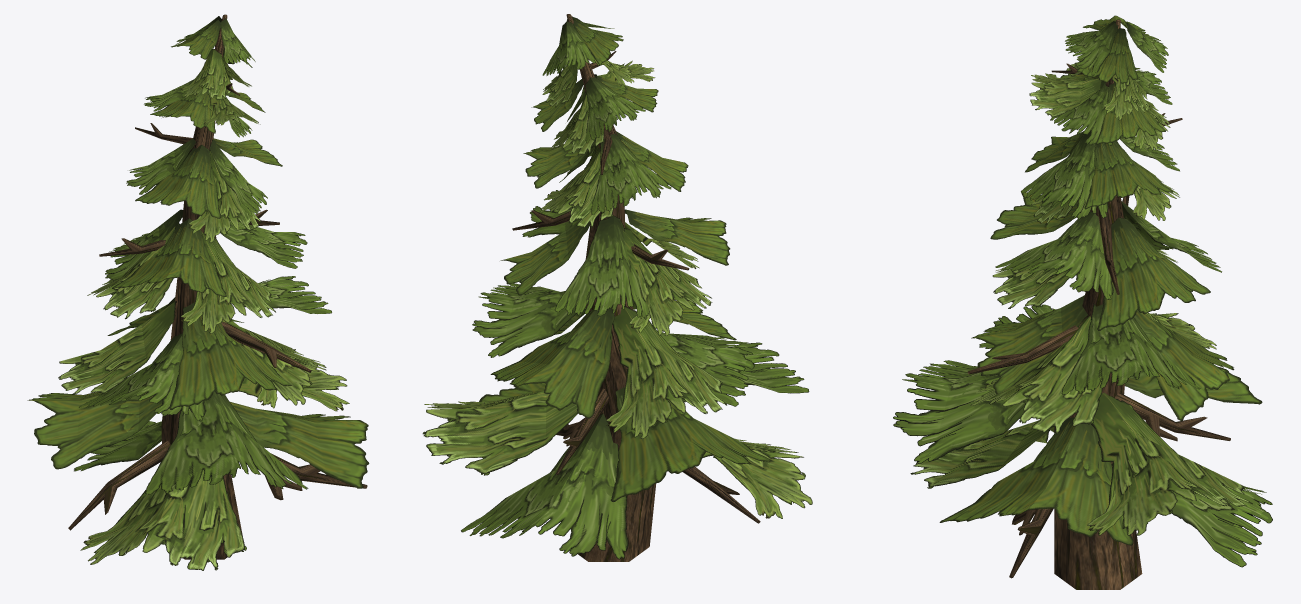
File: VEG0210008.fbx
3 views of the same model, side by side, from view 1: azimuth 30°, elevation 25°; view 2: azimuth 150°, elevation 25°; view 3: azimuth 270°, elevation 25° (orthographic). The views are drawn at different scales.
Parts seen in each view (by area): view 1: smVEG0210008; view 2: smVEG0210008; view 3: smVEG0210008.
Part boxes in pixels (box(x1,y1,x2,y2)): smVEG0210008: box(27, 14, 369, 570); smVEG0210008: box(422, 14, 812, 561); smVEG0210008: box(893, 15, 1272, 589).
Size of the model in its own units: 535 by 731 by 493.
2 materials, 2 textured.
